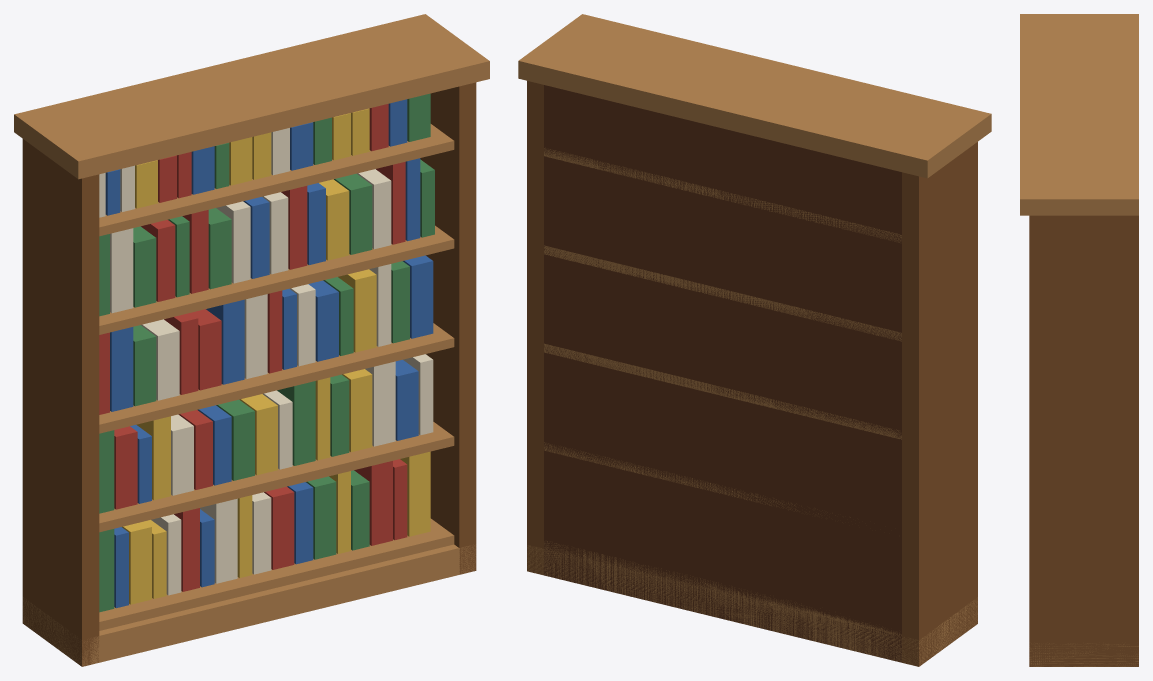
The model's file is bookshelf.glb.
The picture shows the model from 3 angles, left to right: view 1: azimuth 30°, elevation 25°; view 2: azimuth 150°, elevation 25°; view 3: azimuth 270°, elevation 25°; orthographic projection. The views are drawn at different scales.
Visible parts, largest first — view 1: bookshelf; view 2: bookshelf; view 3: bookshelf.
Boxes of the visible parts, x1=… form: bookshelf: x1=14, y1=14, x2=489, y2=666; bookshelf: x1=518, y1=14, x2=991, y2=666; bookshelf: x1=1020, y1=14, x2=1138, y2=666.
Bounding box in the file's own units: 0.96 × 1.14 × 0.26.
1 material, 1 textured.
